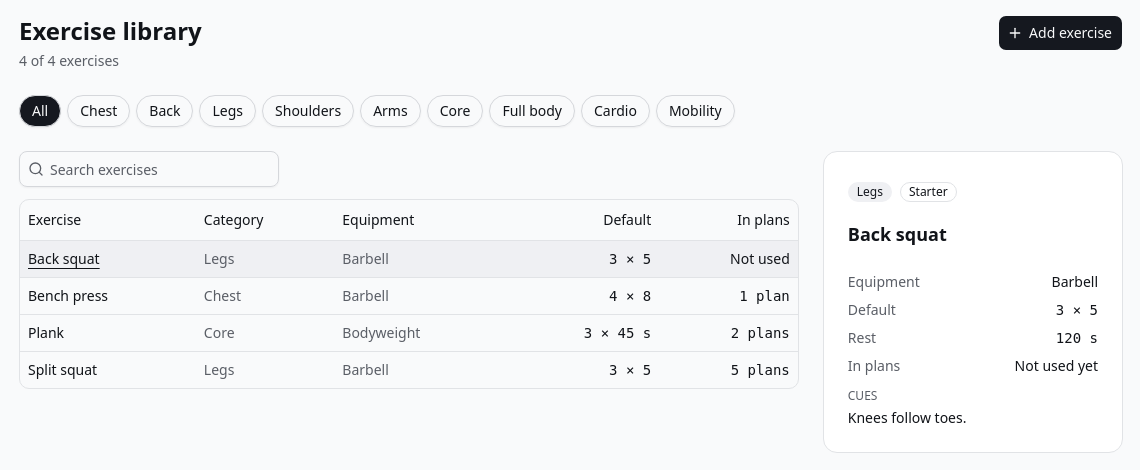
Test case: ExerciseLibraryPage › offers to clear the filters when nothing matches
Expected: the button "Back squat" is shown, [28,248,100,268]
Type "zzz" into the search field at coordinates (161, 169), box [44,151,278,187]
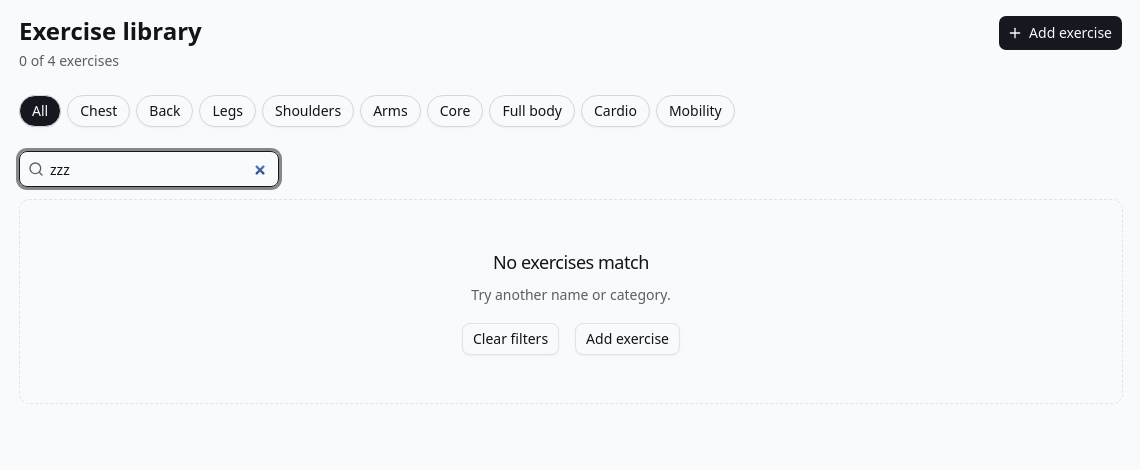
Result: the text "No exercises match" is shown at [493,248,649,276]
Click the button "Clear filters" at coordinates (511, 339), box [462,323,559,355]
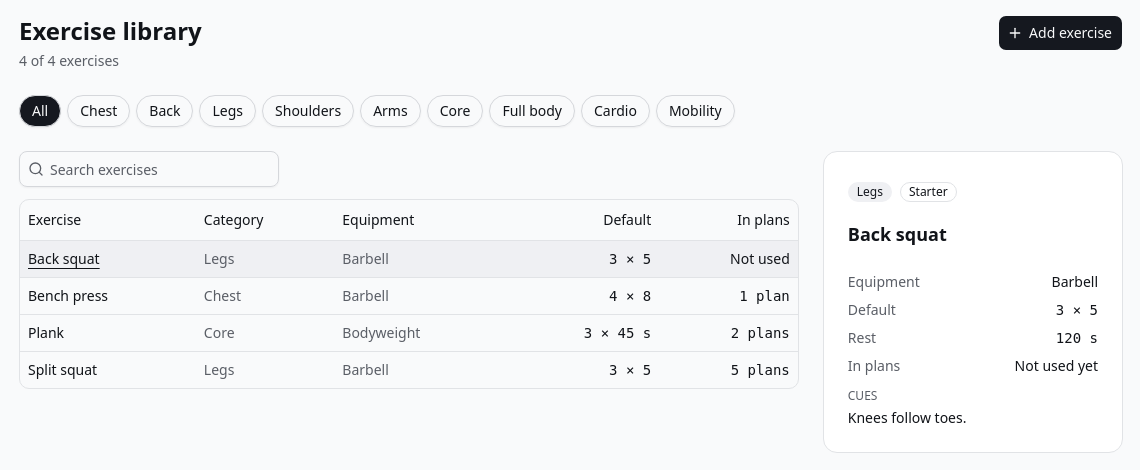
Result: the search field is empty at [44,151,278,187]
